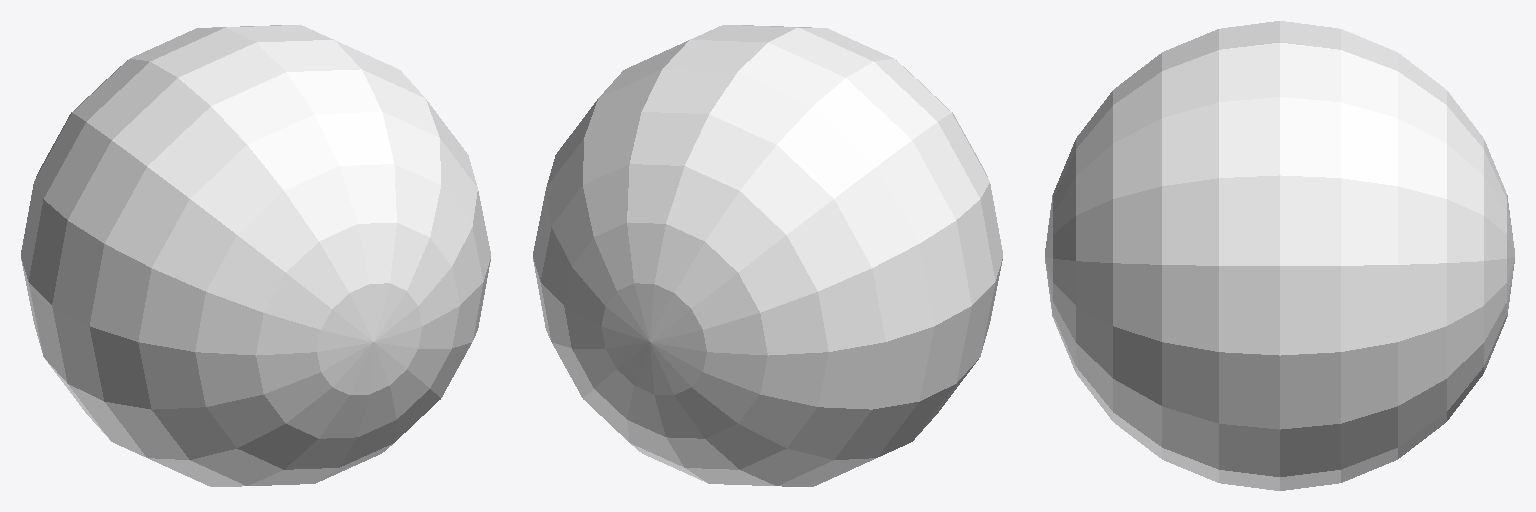
File: Andromeda_FuelSphere_1.obj
The picture shows the model from 3 angles: view 1: azimuth 30°, elevation 25°; view 2: azimuth 150°, elevation 25°; view 3: azimuth 270°, elevation 25°; orthographic projection.
Parts seen in each view (by area): view 1: Andromeda_FuelSphere_1; view 2: Andromeda_FuelSphere_1; view 3: Andromeda_FuelSphere_1.
Boxes of the visible parts, x1,y1,x2,y2 form: Andromeda_FuelSphere_1: [21, 25, 490, 486]; Andromeda_FuelSphere_1: [533, 25, 1002, 486]; Andromeda_FuelSphere_1: [1045, 21, 1514, 490].
Bounding box in the file's own units: 0.1875 × 0.1875 × 0.1875.